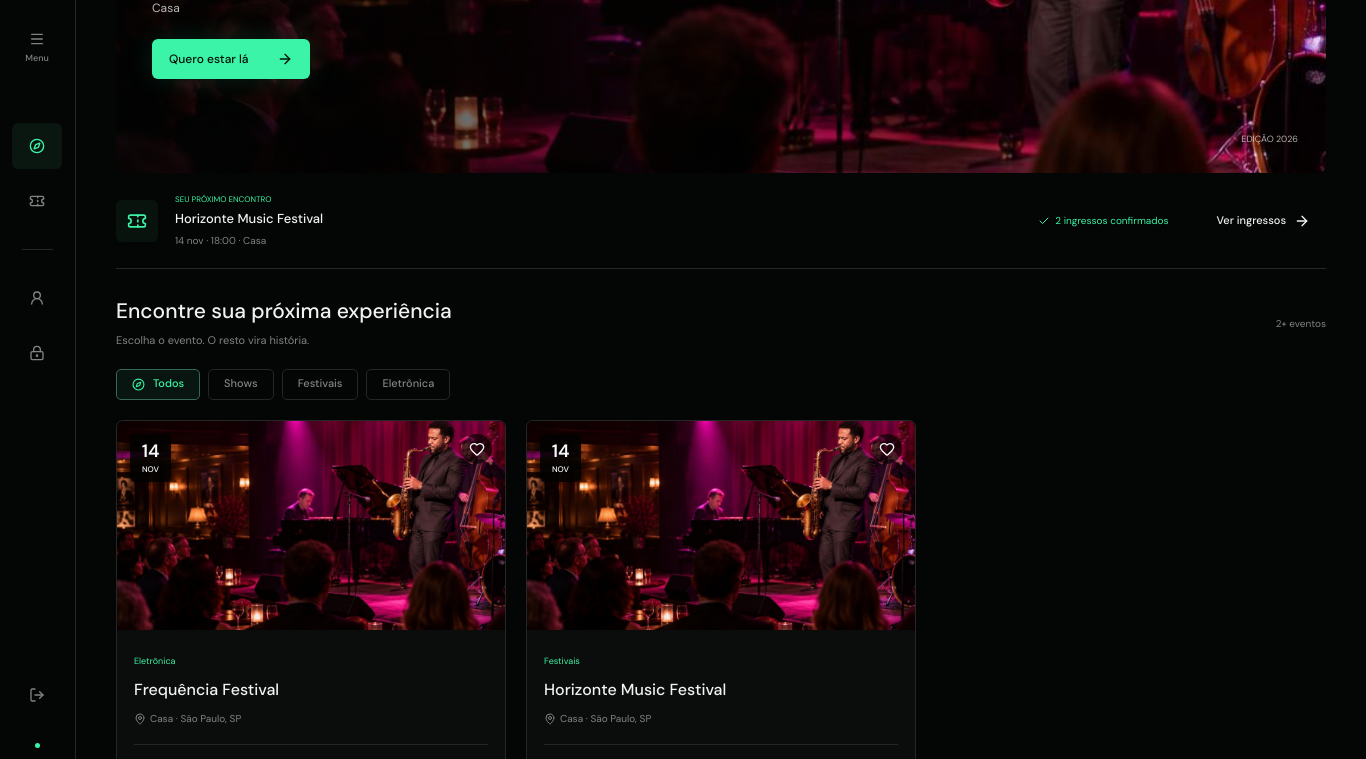
Scenario: EventHome › filters by category on the server
(page scrolled)
Click the button "Shows": (241, 384) top-left (208, 369), bottom-right (274, 400)
(page scrolled)
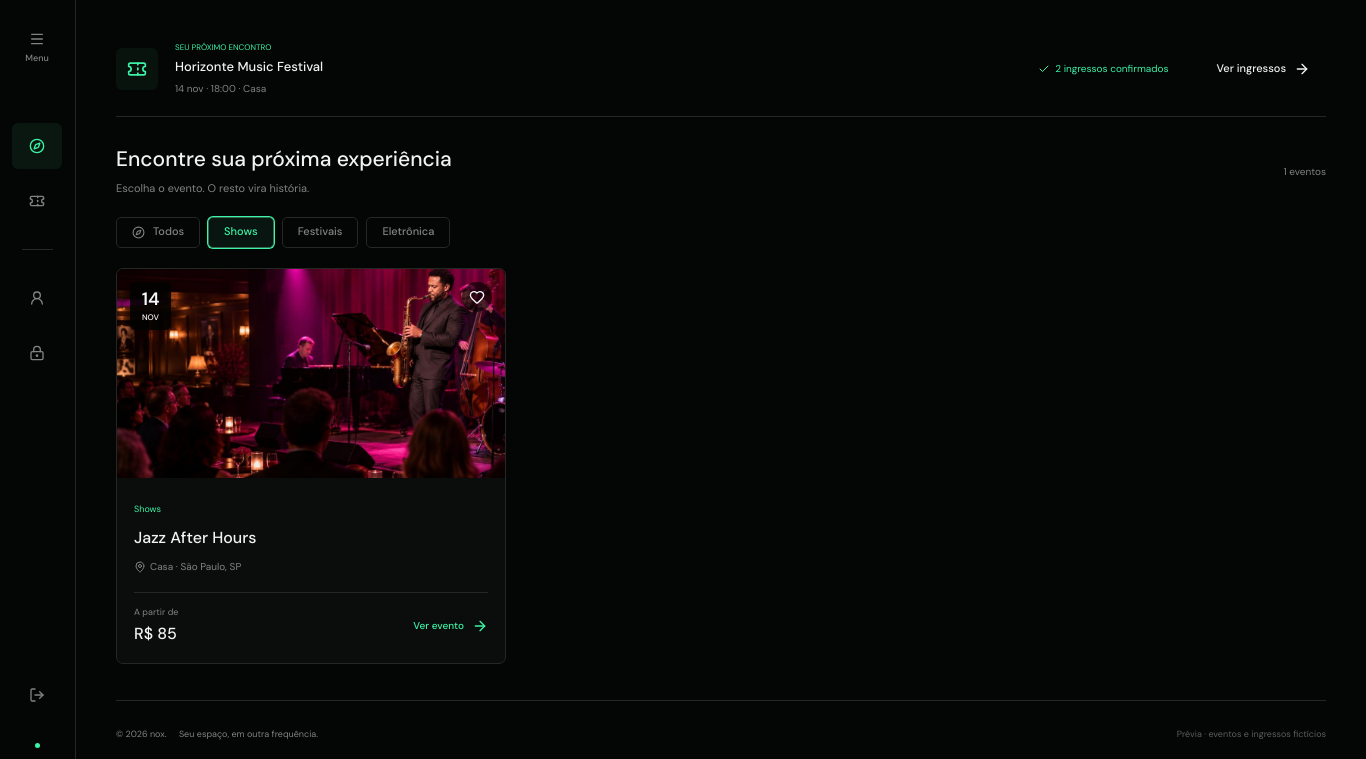
Expected: the button with aria-label "Ver ingressos de Jazz After Hours" is shown, top-left (413, 608), bottom-right (488, 644)
